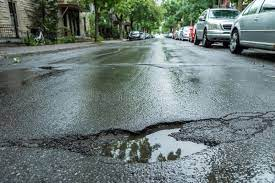potholes: (94, 121, 213, 171)
